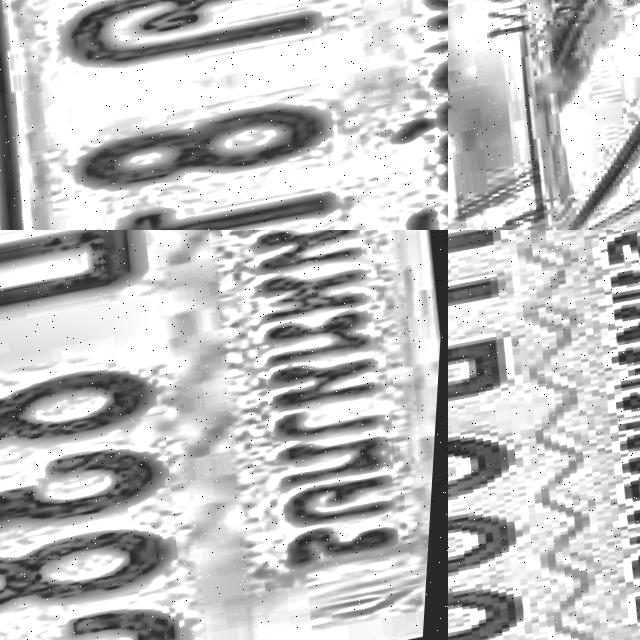license-plate: (0, 230, 448, 640), (0, 0, 448, 230), (448, 230, 640, 640)
